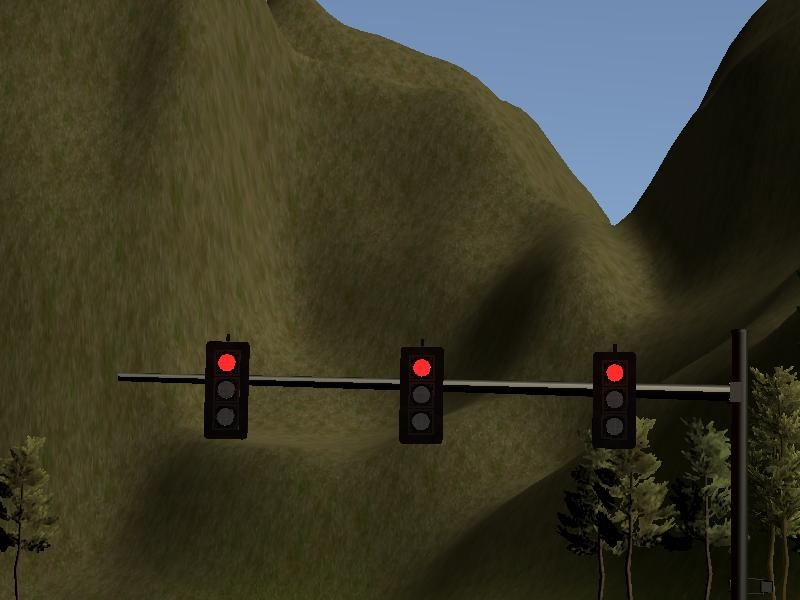red: (587, 344, 643, 453), (396, 341, 448, 450), (203, 337, 251, 440)
